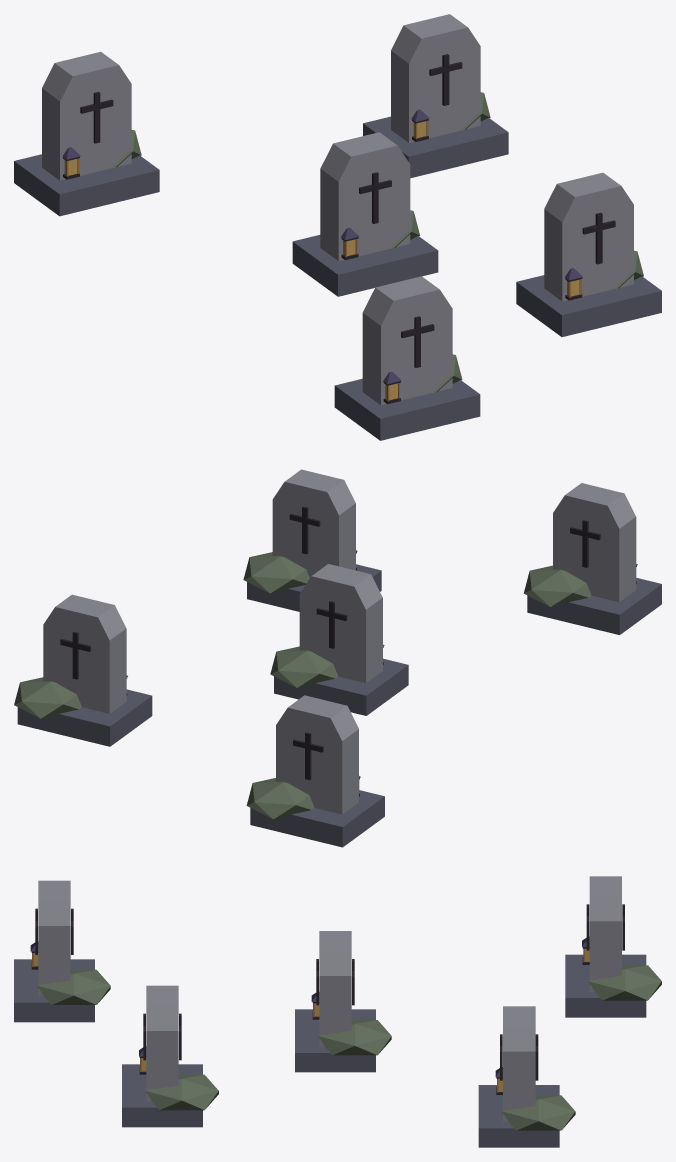
The model's file is HauntedWoods_GraveyardBumpers_Showcase.glb.
3 renders of one model, top to bottom at view 1: azimuth 30°, elevation 25°; view 2: azimuth 150°, elevation 25°; view 3: azimuth 270°, elevation 25°, orthographic. The views are drawn at different scales.
Parts seen in each view (by area): view 1: HauntedWoods_GraveyardBumpers_Showcase; view 2: HauntedWoods_GraveyardBumpers_Showcase; view 3: HauntedWoods_GraveyardBumpers_Showcase.
Boxes of the visible parts, x1=… form: HauntedWoods_GraveyardBumpers_Showcase: x1=14, y1=14, x2=661, y2=440; HauntedWoods_GraveyardBumpers_Showcase: x1=14, y1=469, x2=661, y2=847; HauntedWoods_GraveyardBumpers_Showcase: x1=14, y1=876, x2=661, y2=1147.
Size of the model in its own units: 3.89 by 1.12 by 6.
